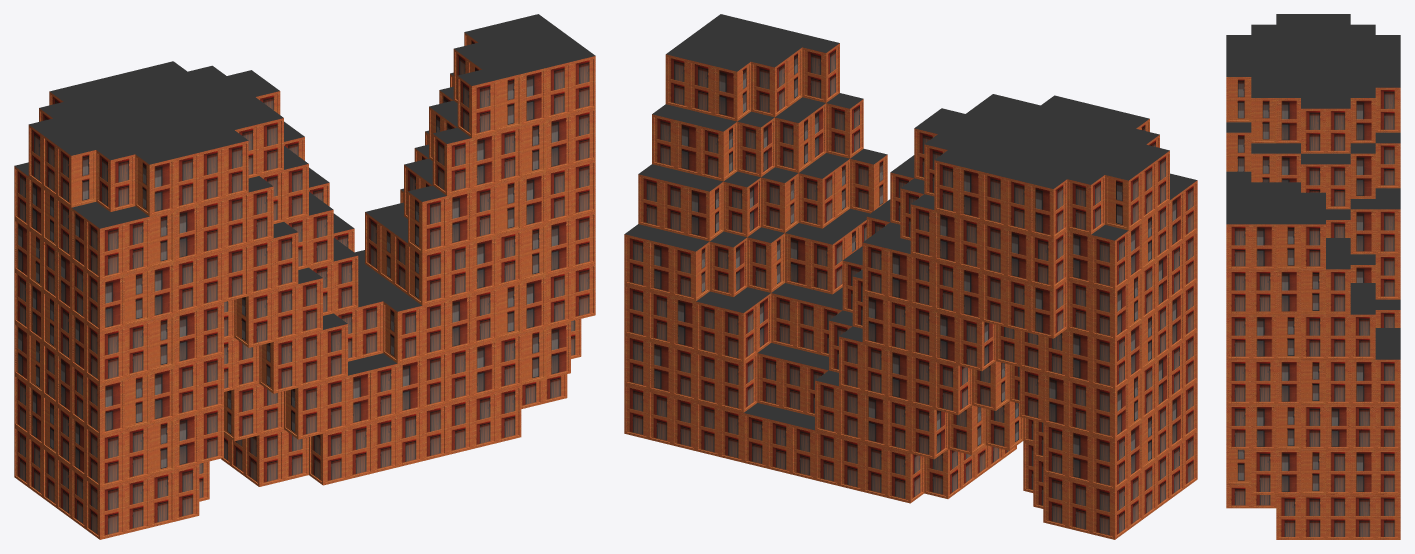
Rendered from archweekend_1_1.glb.
3 renders of one model, left to right at view 1: azimuth 30°, elevation 25°; view 2: azimuth 150°, elevation 25°; view 3: azimuth 270°, elevation 25°, orthographic. The views are drawn at different scales.
Parts seen in each view (by area): view 1: house.002; view 2: house.002; view 3: house.002.
Part boxes in pixels (x1,y1,x2,y2): house.002: [14, 14, 595, 539]; house.002: [624, 14, 1197, 539]; house.002: [1226, 14, 1400, 539].
Size of the model in its own units: 60 by 42 by 21.
Materials: 4 (3 with a texture image).
